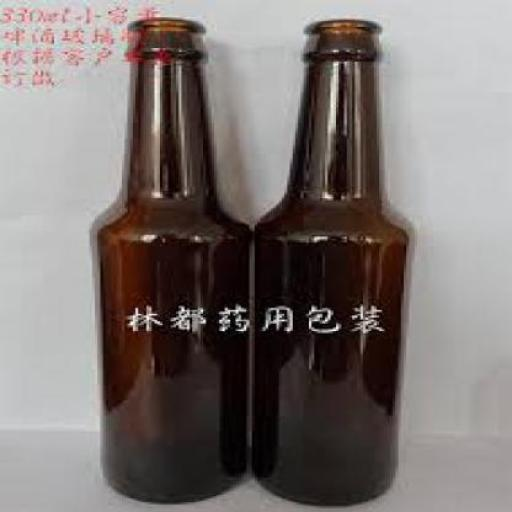glass: (87, 15, 249, 503), (249, 19, 407, 510)
